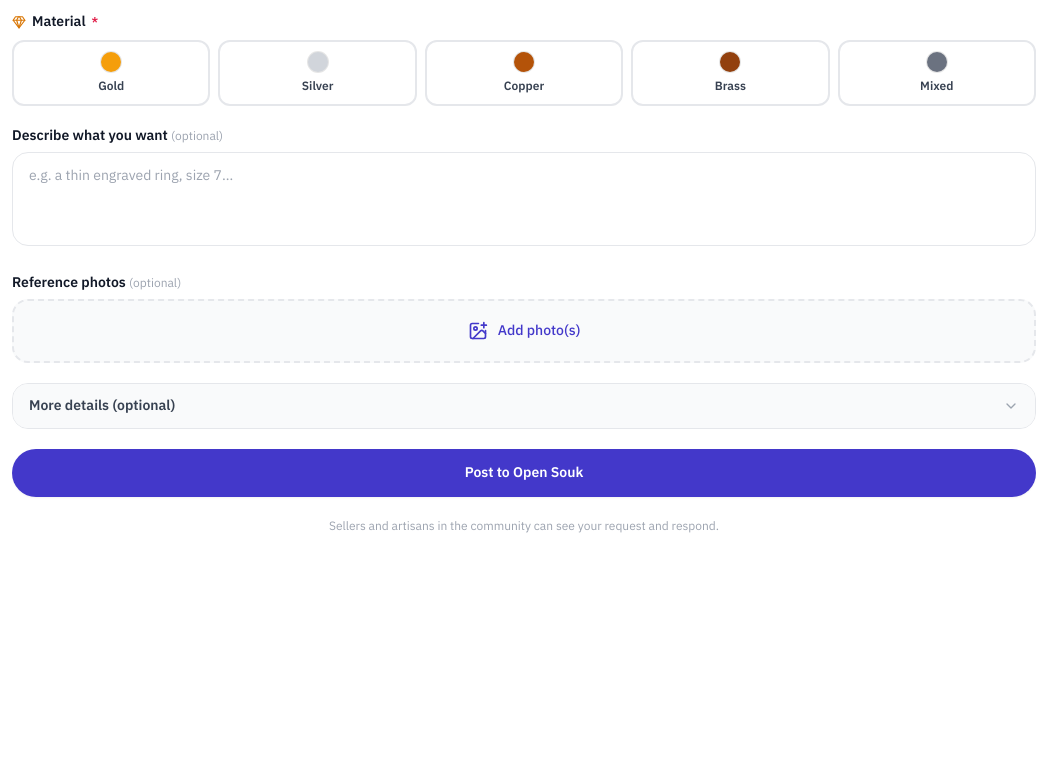
Test: RequestCustomPieceForm (Open Souk) › does not post when Material is missing (the only required field)
Check: the button "Gold" is shown, box x1=12 y1=40 x2=210 y2=106
Note: Click submit without selecting a material.
Click the button "Post to Open Souk": (524, 473) x1=12 y1=449 x2=1036 y2=497
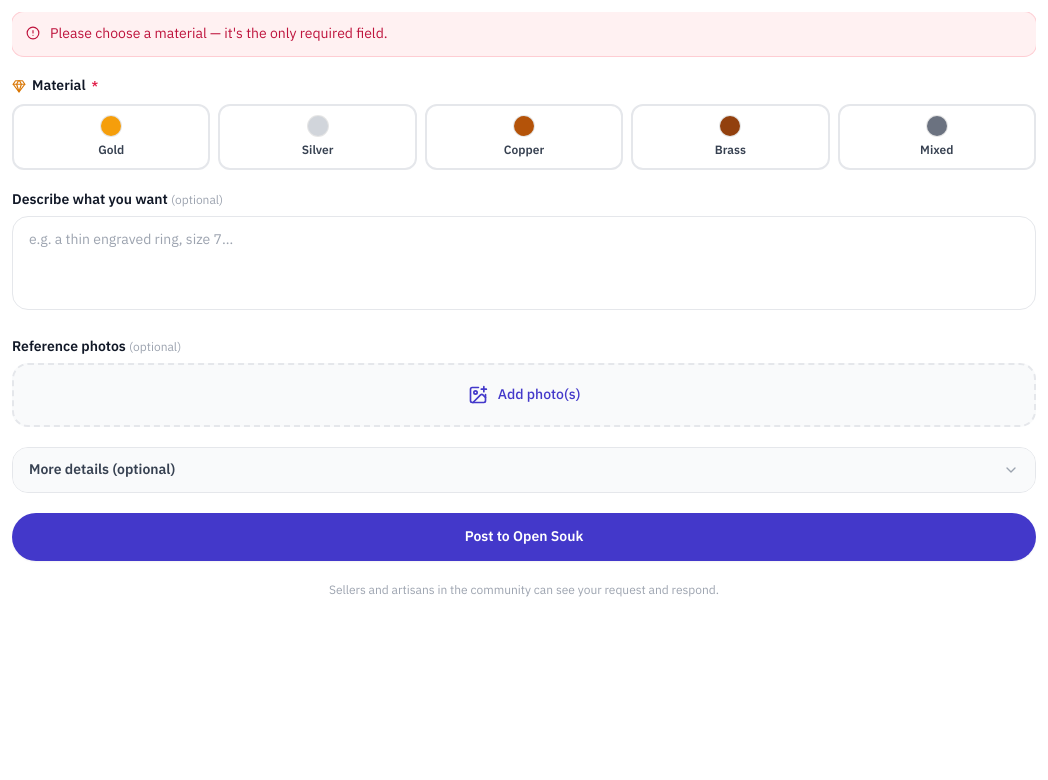
Check: the message "Please choose a material — it's the only required field." is shown, box x1=12 y1=12 x2=1036 y2=56
